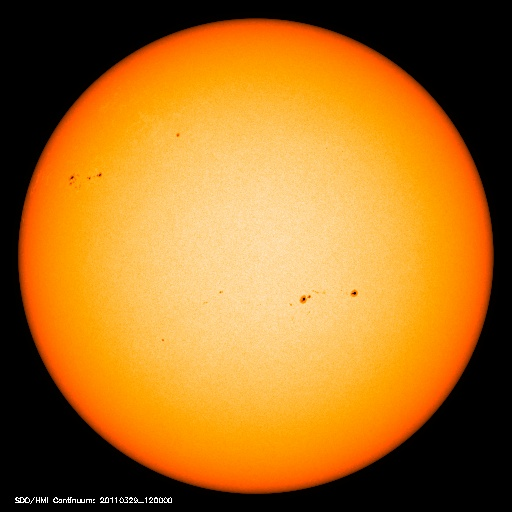sunspot: (282, 279, 365, 317), (61, 165, 112, 193), (196, 282, 235, 311), (162, 124, 195, 147), (152, 330, 178, 351)
